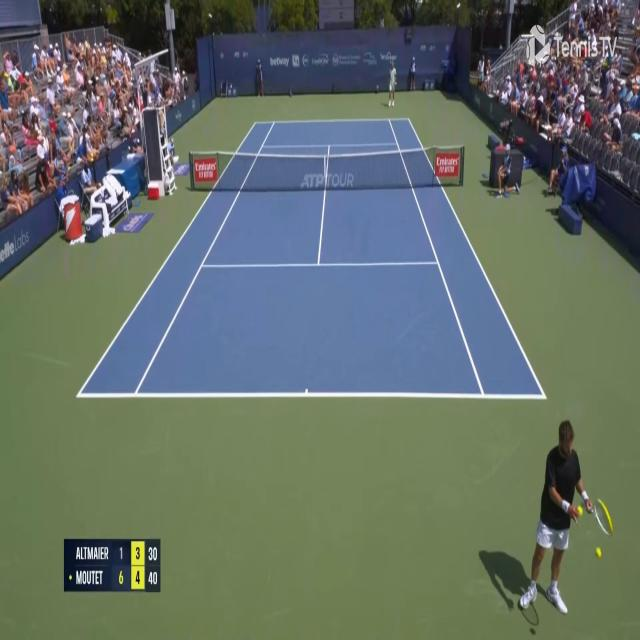tennis-player: (518, 415, 610, 630), (386, 62, 398, 107)
